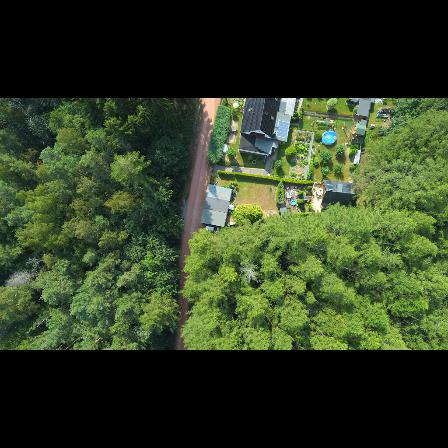Dead: (236, 262, 263, 283), (4, 272, 33, 289), (24, 257, 43, 268)
